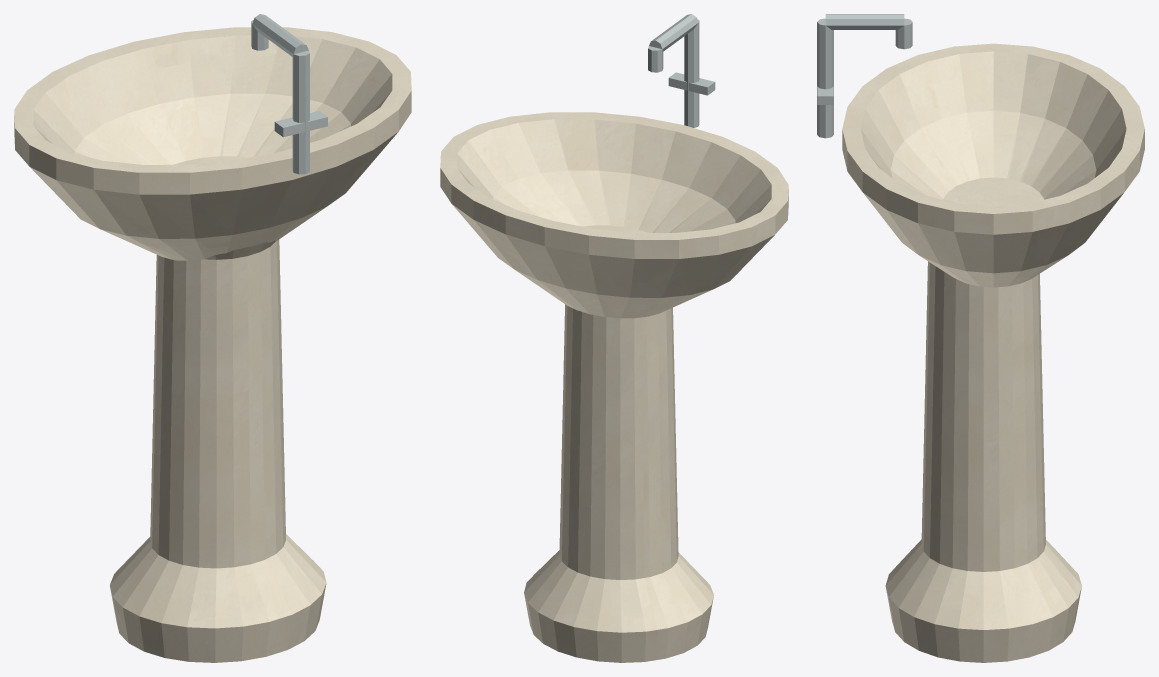
Rendered from bath-sink-pedestal.gltf.
3 views of the same model, side by side, from view 1: azimuth 30°, elevation 25°; view 2: azimuth 150°, elevation 25°; view 3: azimuth 270°, elevation 25° (orthographic). The views are drawn at different scales.
Visible parts, largest first — view 1: fixture-ceramic, fittings-metal; view 2: fixture-ceramic, fittings-metal; view 3: fixture-ceramic, fittings-metal.
Part boxes in pixels (x1=…): fixture-ceramic: x1=14, y1=27, x2=411, y2=662; fittings-metal: x1=251, y1=14, x2=327, y2=174; fixture-ceramic: x1=440, y1=112, x2=788, y2=662; fittings-metal: x1=648, y1=14, x2=715, y2=127; fixture-ceramic: x1=842, y1=43, x2=1144, y2=662; fittings-metal: x1=817, y1=14, x2=912, y2=138.
Bounding box in the file's own units: 0.616 × 1.02 × 0.5005.
3 materials, 1 textured.
